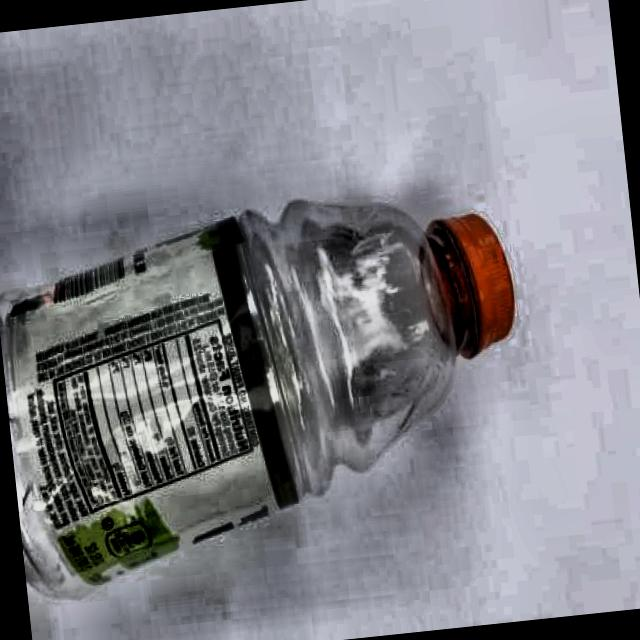plastic bottle: (2, 201, 514, 597)
